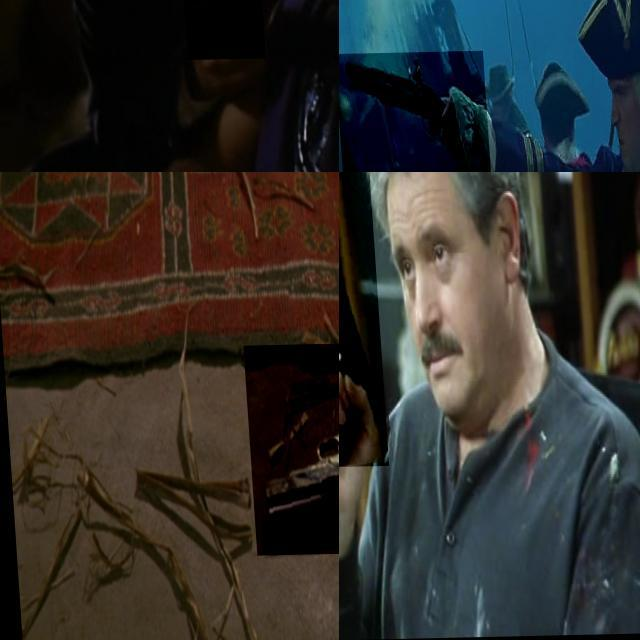gun-knife-thesis - v11 Yolov5 augmented: (239, 344, 339, 556), (339, 172, 407, 469), (339, 52, 486, 172), (174, 0, 258, 65)
